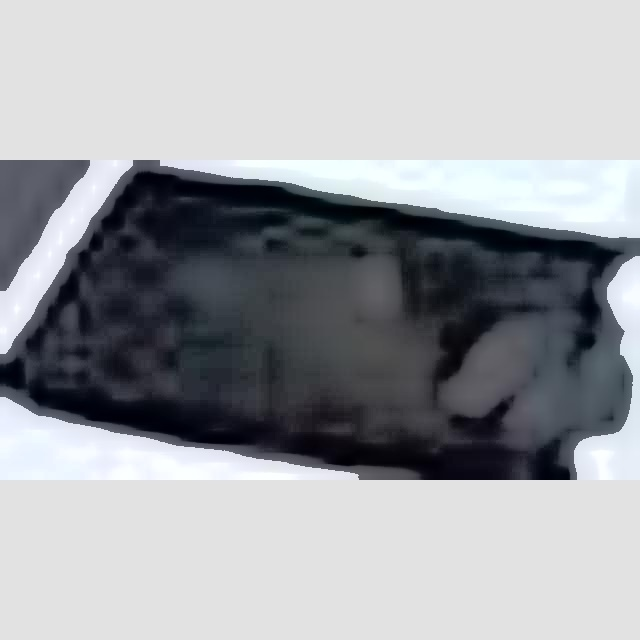pakai: (419, 259, 607, 447)
